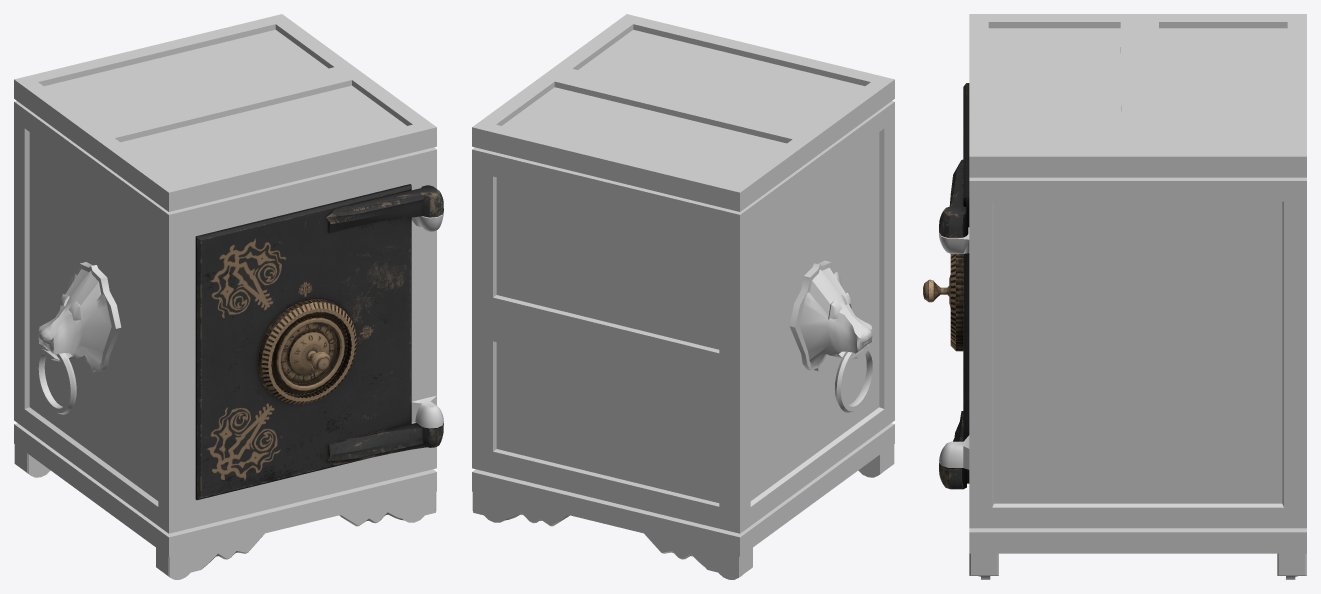
File: Iron Safe Animatable Door and Dial.fbx
The picture shows the model from 3 angles, left to right: view 1: azimuth 30°, elevation 25°; view 2: azimuth 150°, elevation 25°; view 3: azimuth 270°, elevation 25°; orthographic projection. The views are drawn at different scales.
Parts seen in each view (by area): view 1: Safe, Door, Dial; view 2: Safe; view 3: Safe, Door.
Boxes of the visible parts, box(x1,y1,x2,y2) form: Safe: box(14, 14, 443, 579); Door: box(195, 184, 443, 500); Dial: box(287, 331, 330, 374); Safe: box(472, 14, 894, 579); Safe: box(939, 14, 1306, 579); Door: box(939, 83, 969, 489).
Size of the model in its own units: 126 by 148 by 120.
